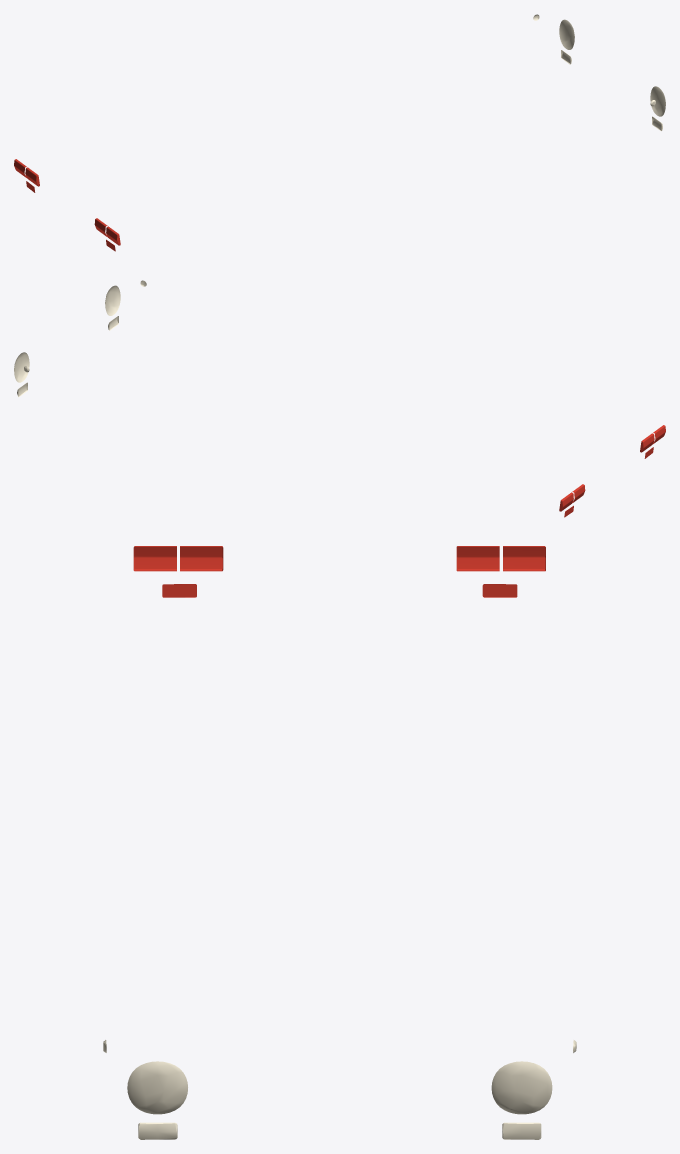
Rendered from vaz2101_lights.obj.
3 renders of one model, top to bottom at view 1: azimuth 30°, elevation 25°; view 2: azimuth 150°, elevation 25°; view 3: azimuth 270°, elevation 25°, orthographic. The views are drawn at different scales.
Parts seen in each view (by area): view 1: vaz2101_Headlight, vaz2101_Taillight; view 2: vaz2101_Headlight, vaz2101_Taillight; view 3: vaz2101_Headlight, vaz2101_Taillight.
Part boxes in pixels (x1=…): vaz2101_Headlight: x1=533, y1=14, x2=665, y2=131; vaz2101_Taillight: x1=14, y1=159, x2=120, y2=251; vaz2101_Headlight: x1=14, y1=280, x2=146, y2=397; vaz2101_Taillight: x1=559, y1=425, x2=665, y2=517; vaz2101_Headlight: x1=103, y1=1040, x2=576, y2=1139; vaz2101_Taillight: x1=133, y1=546, x2=545, y2=597.
Size of the model in its own units: 3.96 by 0.2865 by 1.48.
Materials: 2 (2 with a texture image).
